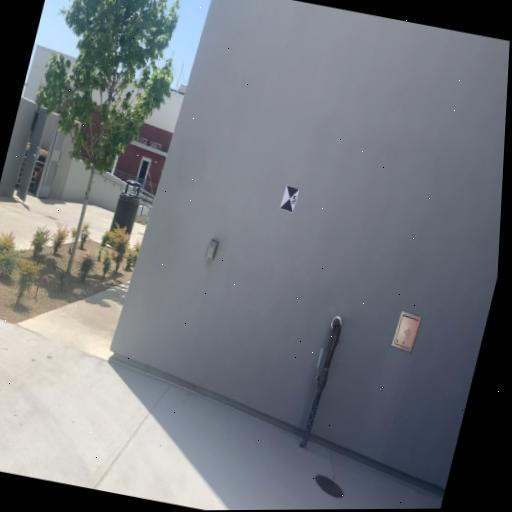target5: (279, 185, 300, 214)
